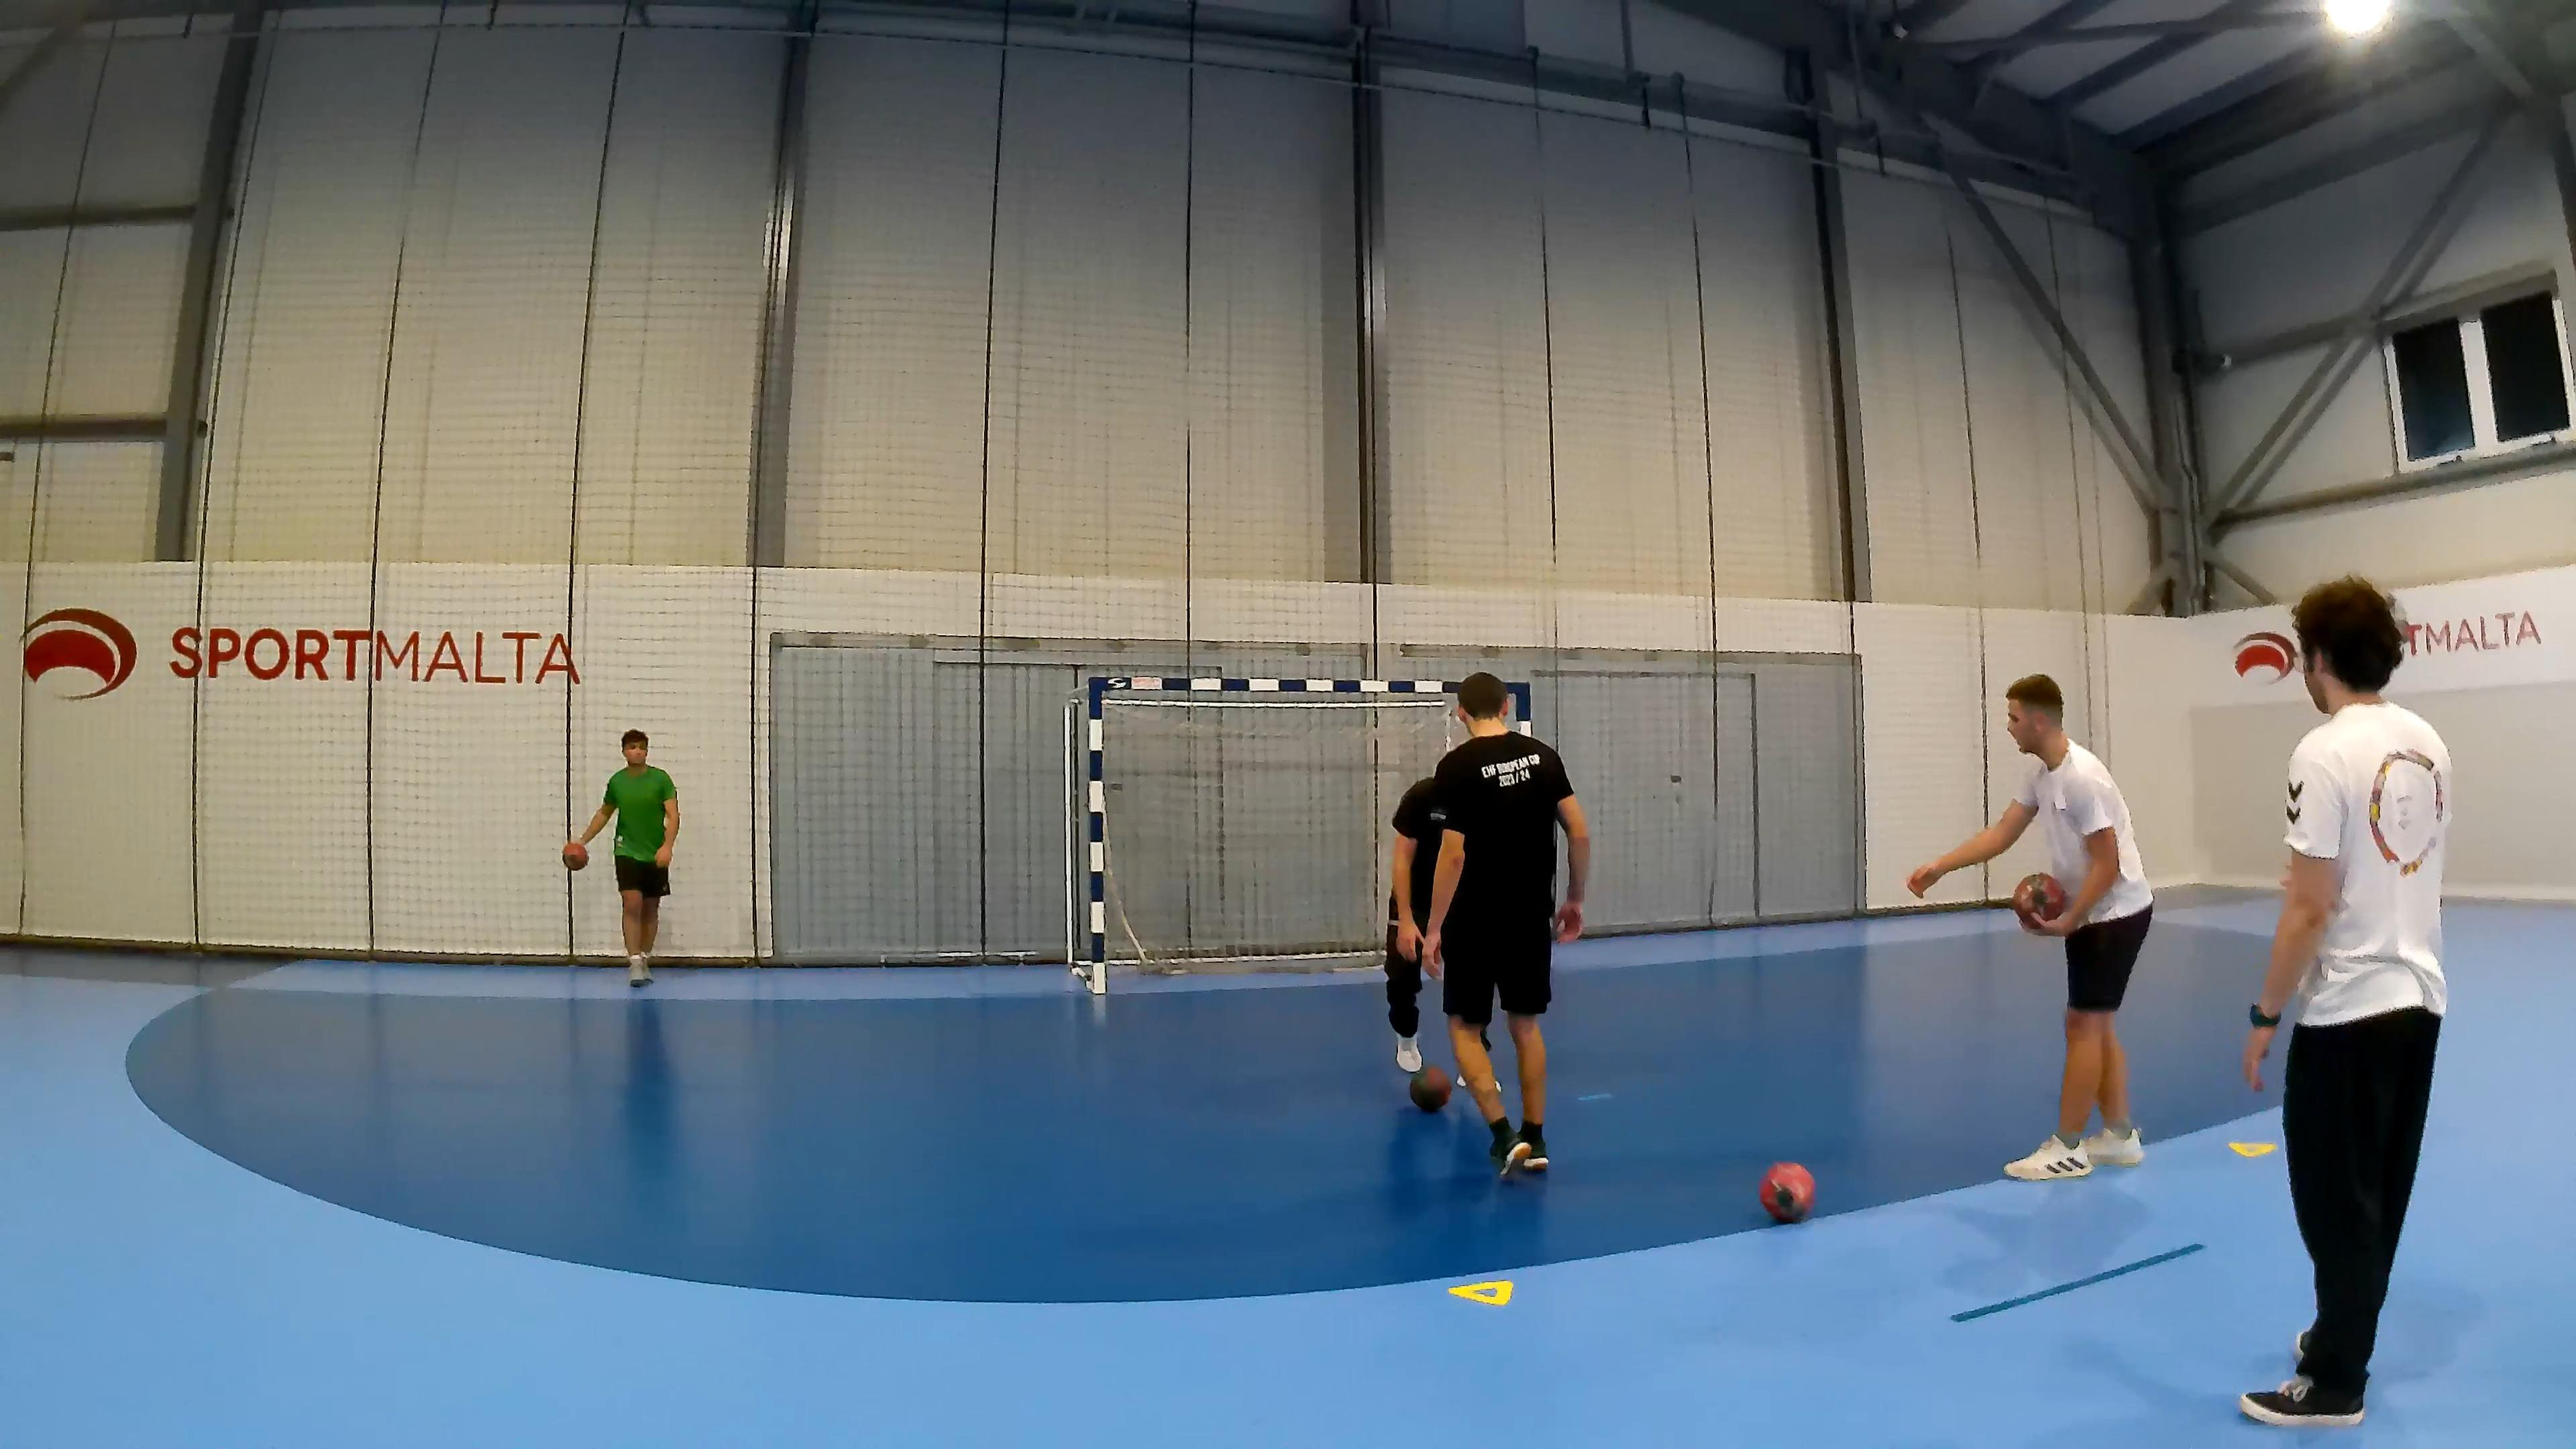handball: (1759, 1161, 1815, 1223), (2012, 872, 2065, 932), (1408, 1063, 1451, 1113), (563, 840, 587, 869)
